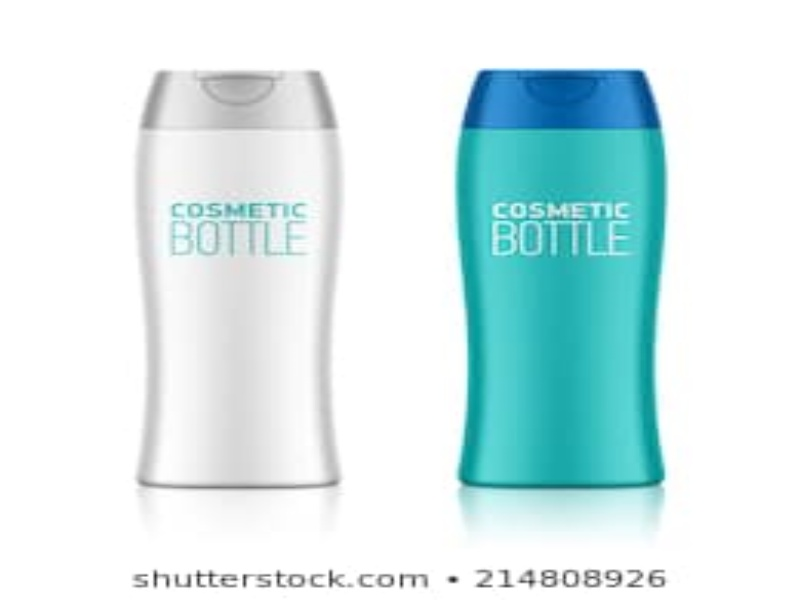shampoo-bottle: (130, 67, 349, 490), (452, 68, 671, 491)
